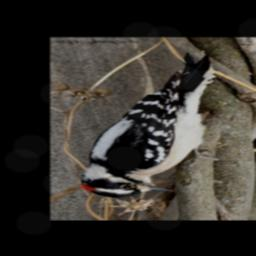Woodpecker: (80, 52, 218, 198)
